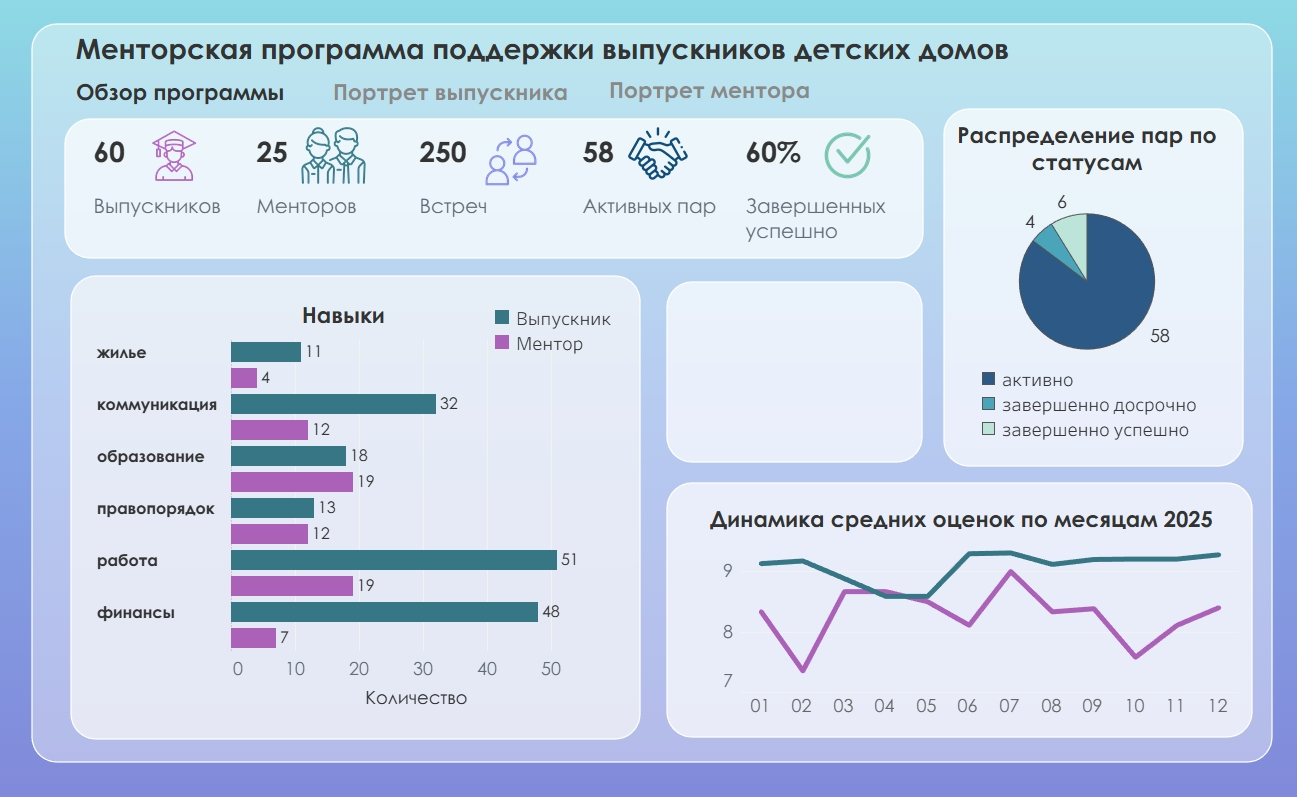

This screenshot's page, from the dashboard's own definition file:
{"tool":"tableau","page":{"name":"Обзор программы","canvas":[1300,800],"ordinal":2},"visuals":[{"type":"image","param":"C:/Users/ksenu/OneDrive/Рабочий стол/ГРАД 2.jpg","box":[0,0,1300,800]},{"type":"worksheet","title":"Контейнер фон","mark":"Automatic","box":[0,0,1300,800]},{"type":"dashboard-object","box":[29,63,303,59]},{"type":"dashboard-object","box":[584,65,253,52]},{"type":"dashboard-object","box":[297,67,306,52]},{"type":"image","param":"C:/Users/ksenu/OneDrive/Рабочий стол/портфолио/Frame 14 (4).png","box":[801,97,122,103]},{"type":"image","param":"C:/Users/ksenu/OneDrive/Рабочий стол/портфолио/Frame 11.png","box":[609,101,196,106]},{"type":"image","param":"C:/Users/ksenu/OneDrive/Рабочий стол/портфолио/Frame 13.png","box":[293,107,114,90]},{"type":"image","param":"C:/Users/ksenu/OneDrive/Рабочий стол/портфолио/Frame 10.png","box":[131,114,139,88]},{"type":"worksheet","title":"Распреледеление пар по статусам","mark":"Pie","box":[940,118,311,327]},{"type":"image","param":"C:/Users/ksenu/OneDrive/Рабочий стол/портфолио/Frame 12.png","box":[472,121,177,75]},{"type":"worksheet","title":"KPI","mark":"Automatic","box":[89,136,828,116]},{"type":"legend","title":"Распределение навыков","param":"[federated.1l5fbv61928opi18jiy7l0idzn6b].[:Measure Names]","box":[490,276,140,81]},{"type":"worksheet","title":"Критические навыки","mark":"Bar","rows":["skill_name"],"cols":["Calculation_2108327429758994"],"box":[668,283,289,225]},{"type":"worksheet","title":"Распределение навыков","mark":"Bar","rows":["category"],"cols":["Calculation_2108327227805703","Calculation_2108327227621382"],"box":[91,298,522,429]},{"type":"legend","title":"Распреледеление пар по статусам","param":"[federated.1l5fbv61928opi18jiy7l0idzn6b].[none:status:nk]","box":[976,341,248,139]},{"type":"worksheet","title":"Динамика оценок по месяцам","mark":"Automatic","rows":["graduate_rating","mentor_rating"],"cols":["meeting_date"],"box":[684,502,555,217]}]}

Visuals, with their boxes in screenshot pixels (x1, y1, x2, y2), scaled from the page's 1300x800 canvas onto the 1297x797 screenshot:
image: [left=0, top=0, right=1296, bottom=796]
"Контейнер фон" worksheet: [left=0, top=0, right=1296, bottom=796]
dashboard-object: [left=29, top=63, right=331, bottom=122]
dashboard-object: [left=583, top=65, right=835, bottom=117]
dashboard-object: [left=296, top=67, right=602, bottom=119]
image: [left=799, top=97, right=921, bottom=199]
image: [left=608, top=101, right=803, bottom=206]
image: [left=292, top=107, right=406, bottom=196]
image: [left=131, top=114, right=269, bottom=201]
"Распреледеление пар по статусам" worksheet (Pie marks): [left=938, top=118, right=1248, bottom=443]
image: [left=471, top=121, right=648, bottom=195]
"KPI" worksheet: [left=89, top=135, right=915, bottom=251]
"Распределение навыков" legend: [left=489, top=275, right=629, bottom=356]
"Критические навыки" worksheet (Bar marks): [left=666, top=282, right=955, bottom=506]
"Распределение навыков" worksheet (Bar marks): [left=91, top=297, right=612, bottom=724]
"Распреледеление пар по статусам" legend: [left=974, top=340, right=1221, bottom=478]
"Динамика оценок по месяцам" worksheet: [left=682, top=500, right=1236, bottom=716]
